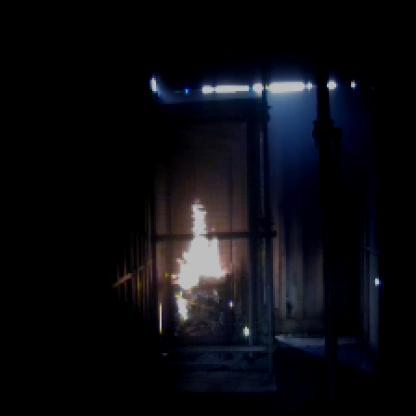Fire: (169, 195, 238, 314)
